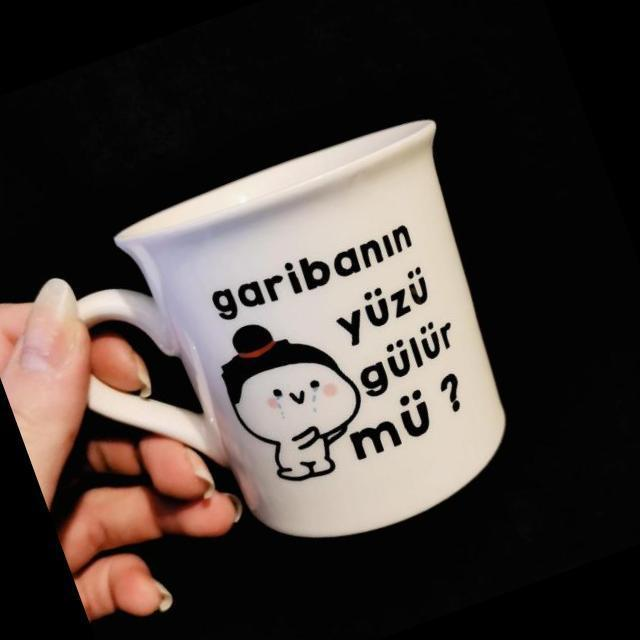taza: (52, 117, 514, 552)
